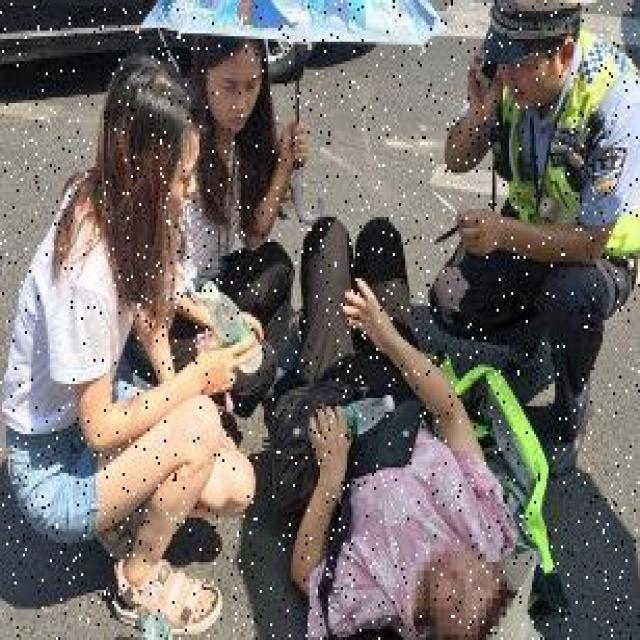fall: (288, 220, 516, 637)
